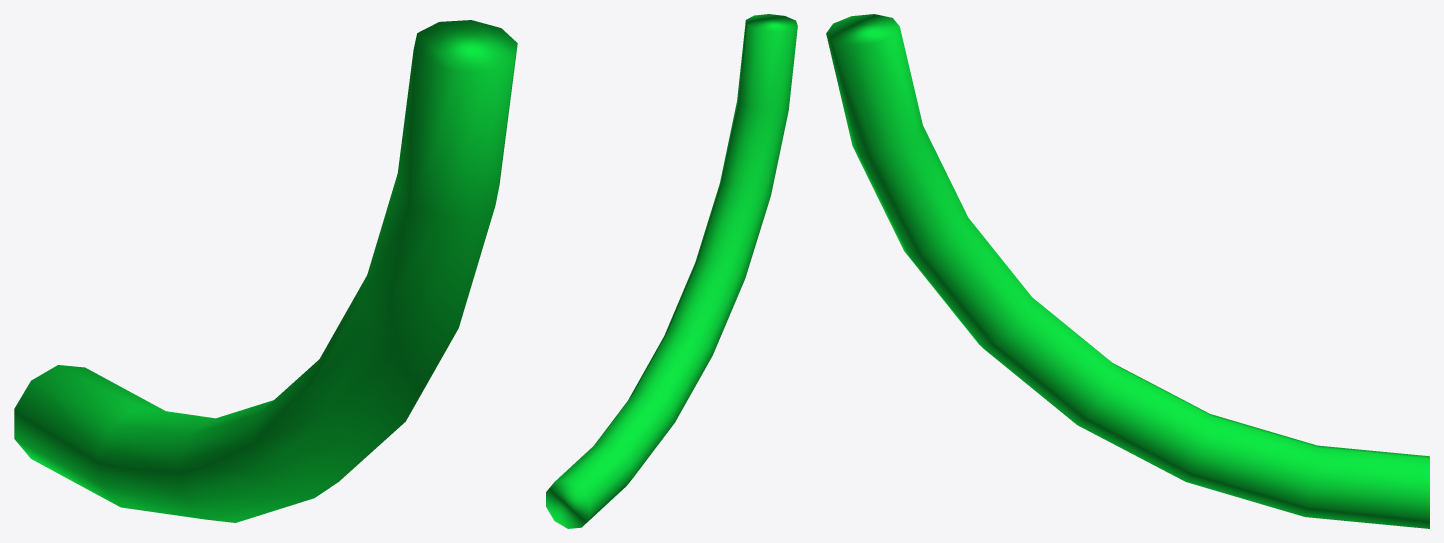
Rendered from Pipe_Ring_90.fbx.
The picture shows the model from 3 angles, left to right: view 1: azimuth 30°, elevation 25°; view 2: azimuth 150°, elevation 25°; view 3: azimuth 270°, elevation 25°; orthographic projection. The views are drawn at different scales.
Parts seen in each view (by area): view 1: Pipe_Ring_90; view 2: Pipe_Ring_90; view 3: Pipe_Ring_90.
Part boxes in pixels (box(x1,y1,x2,y2)): Pipe_Ring_90: box(14, 20, 517, 522); Pipe_Ring_90: box(546, 14, 797, 528); Pipe_Ring_90: box(826, 14, 1429, 528).
Size of the model in its own units: 0.2254 by 1.76 by 1.93.
